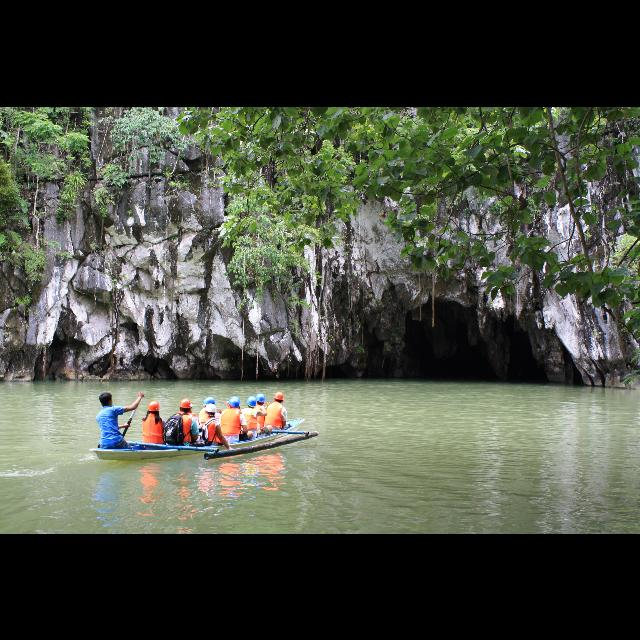head: (99, 390, 113, 406), (179, 401, 191, 414), (205, 404, 217, 416), (204, 398, 216, 410), (148, 402, 160, 412), (228, 400, 238, 410), (256, 394, 266, 404), (248, 397, 256, 409), (274, 395, 284, 403)
person: (95, 388, 149, 462), (162, 396, 206, 456), (140, 399, 178, 455), (194, 402, 236, 452), (218, 398, 254, 450), (238, 395, 274, 445), (198, 396, 228, 448), (263, 390, 293, 438), (250, 392, 278, 436)
